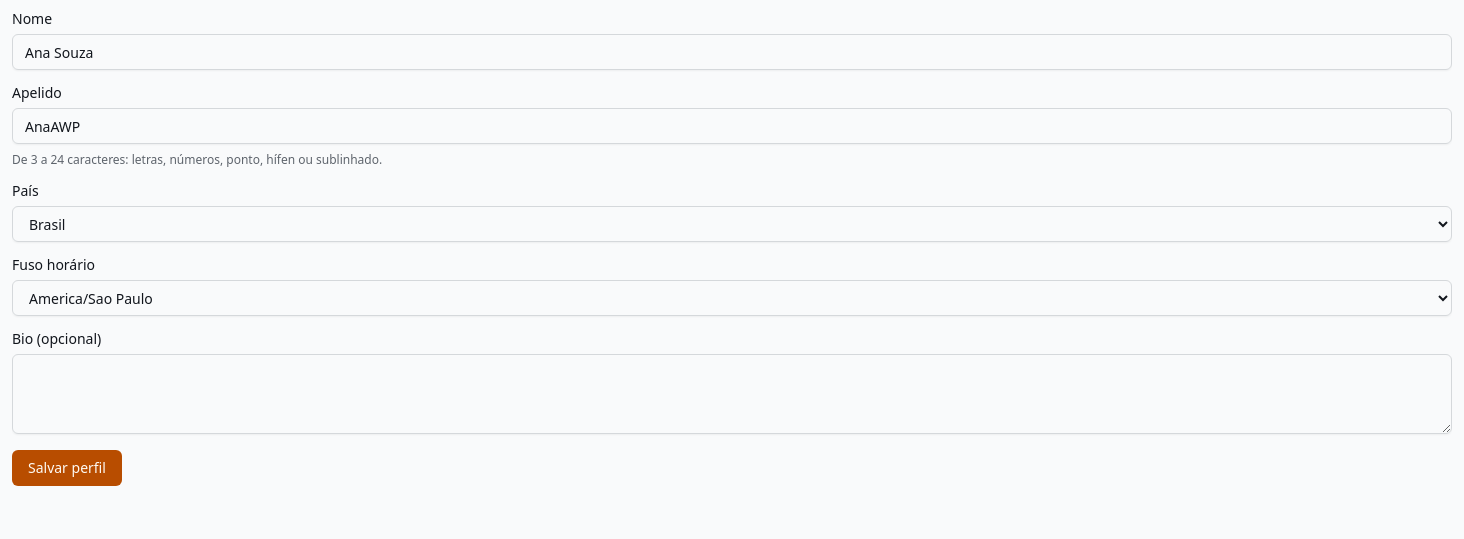
Scenario: ProfileForm › saves the profile and refreshes the server-rendered parts
Replace the text in the field labelled "Apelido" with "AnaRifler" at (732, 126), box x1=12 y1=108 x2=1452 y2=144
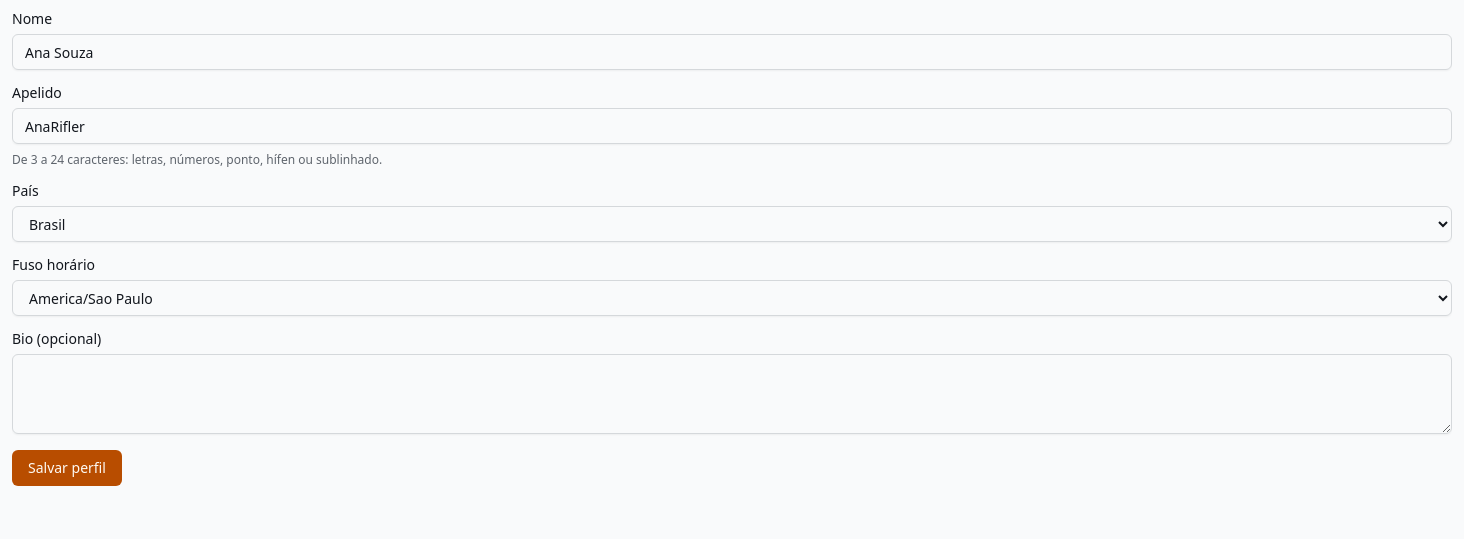
Select "Prefiro não informar" in the dropdown labelled "País" at (732, 224), box x1=12 y1=206 x2=1452 y2=242
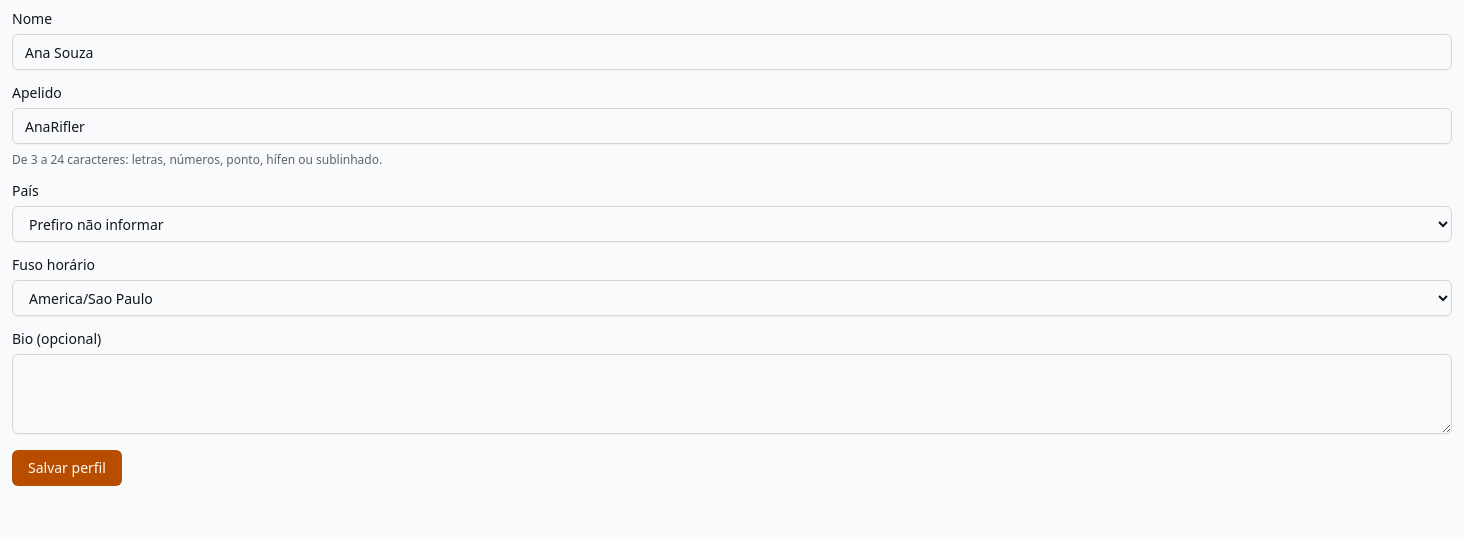
Type "  Entry.  " into the text box labelled "Bio (opcional)" at (732, 394), box x1=12 y1=354 x2=1452 y2=434
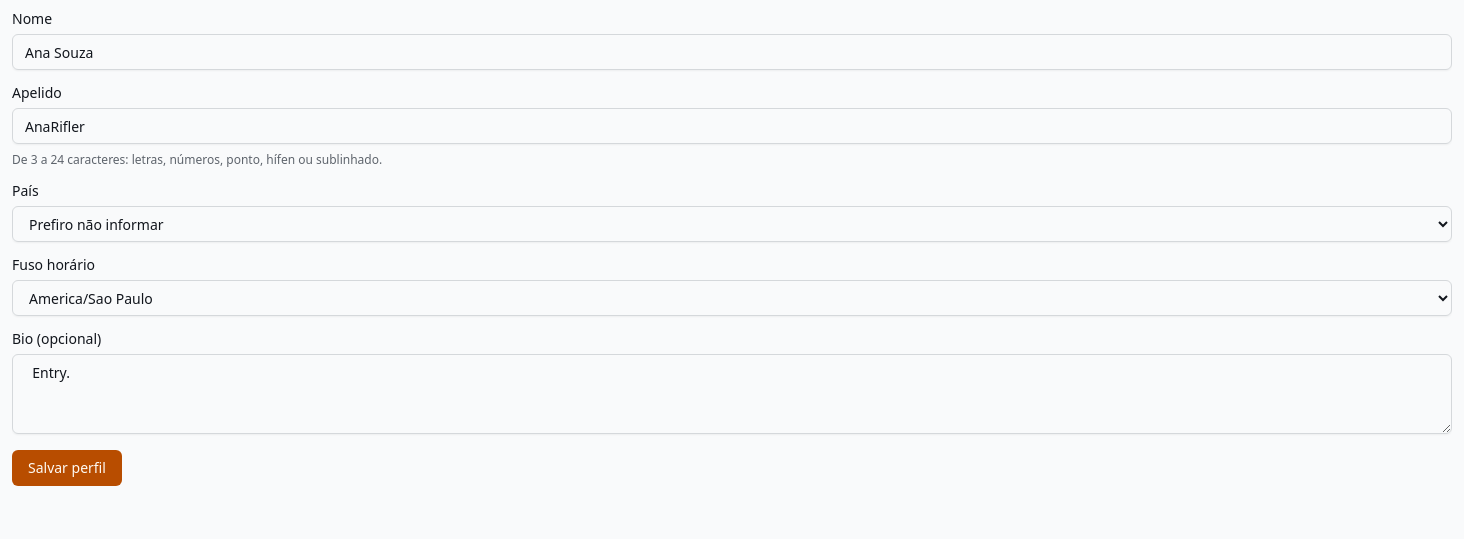
Click the button "Salvar perfil" at (67, 468), box x1=12 y1=450 x2=122 y2=486
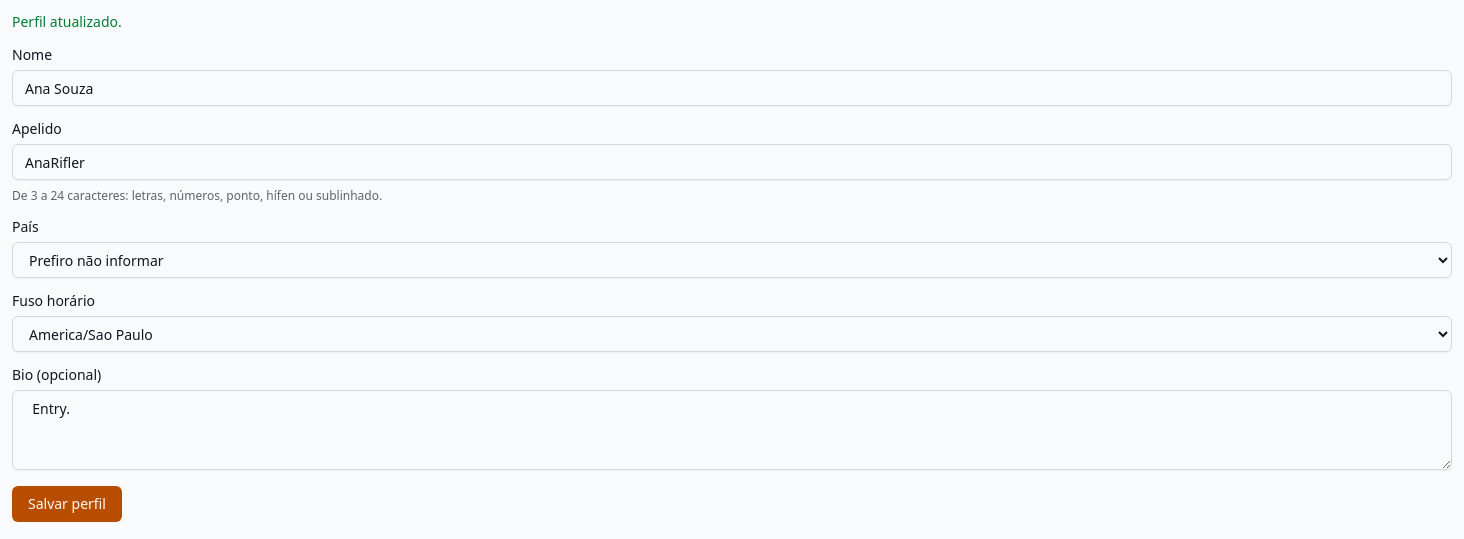
Check: the message reads "Perfil atualizado.", box x1=12 y1=12 x2=122 y2=31
